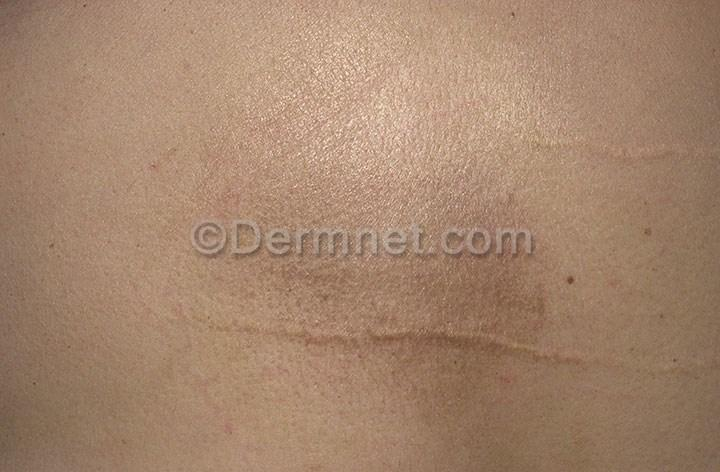Eczema: (406, 89, 510, 236), (459, 149, 573, 275), (482, 266, 579, 411), (367, 179, 483, 297), (394, 276, 498, 399), (165, 119, 273, 236), (307, 285, 424, 391), (196, 238, 297, 357), (278, 173, 366, 306), (245, 69, 333, 188), (326, 88, 425, 188)
